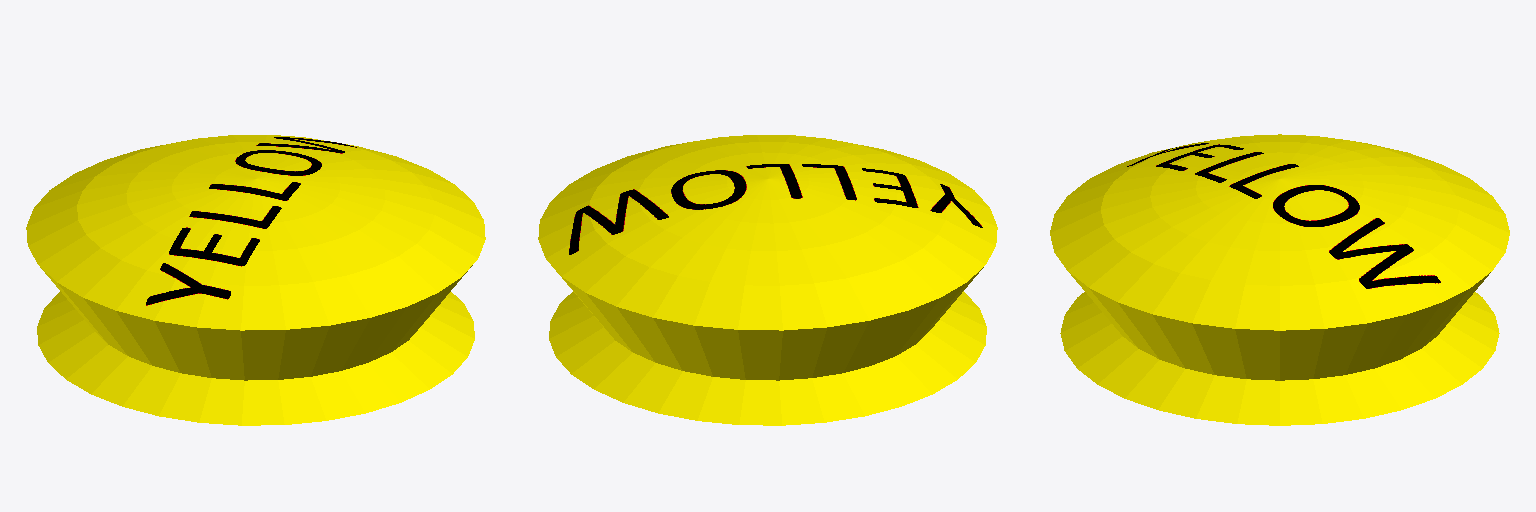
The picture shows the model from 3 angles: view 1: azimuth 30°, elevation 25°; view 2: azimuth 150°, elevation 25°; view 3: azimuth 270°, elevation 25°; orthographic projection.
Parts seen in each view (by area): view 1: Sphere; view 2: Sphere; view 3: Sphere.
Part boxes in pixels (x1,y1,x2,y2): Sphere: (26,135,485,425); Sphere: (538,135,997,425); Sphere: (1050,134,1509,425).
Bounding box in the file's own units: 2.06 × 0.7606 × 2.06.
Materials: 1 (1 with a texture image).